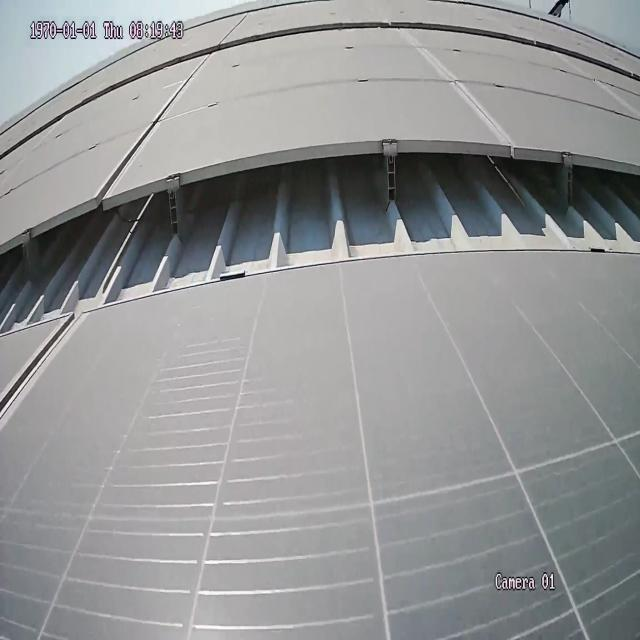interior panel: (101, 61, 212, 184), (409, 31, 515, 135), (2, 324, 76, 419)
